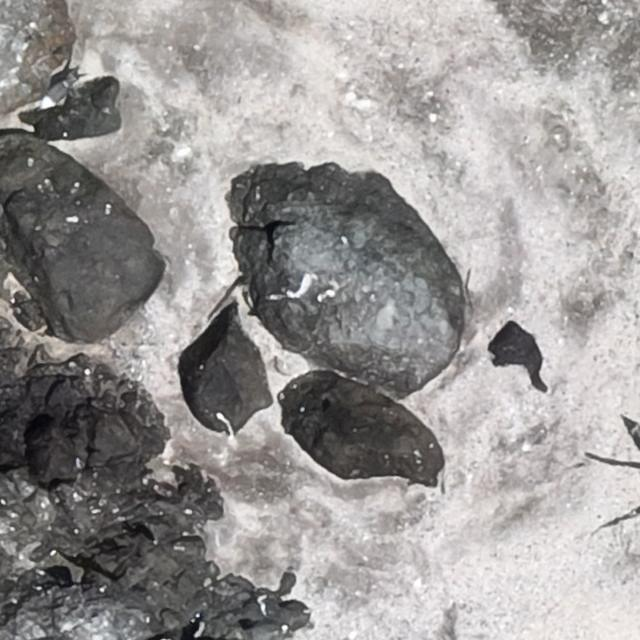umineko: (43, 80, 70, 107)
